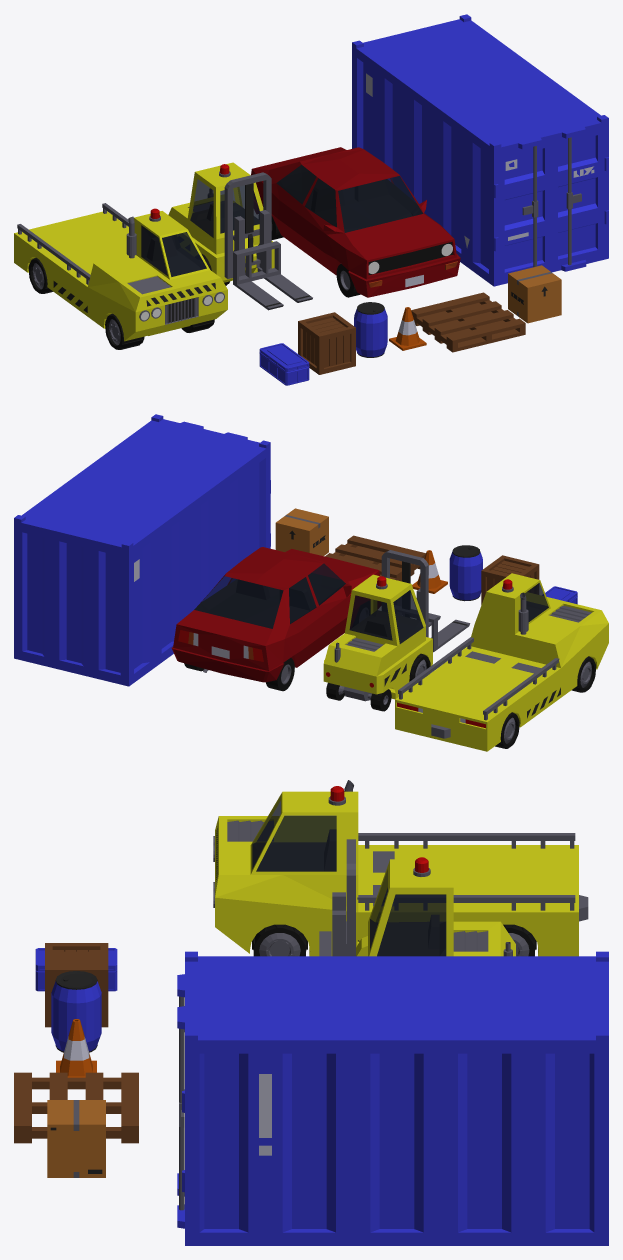
The model's file is uploads_files_3896325_Low+poly+vehicle+stuff.fbx.
3 renders of one model, top to bottom at view 1: azimuth 30°, elevation 25°; view 2: azimuth 150°, elevation 25°; view 3: azimuth 270°, elevation 25°, orthographic. The views are drawn at different scales.
Visible parts, largest first — view 1: Shipping_container, Truck, Car, Forklift, Pallet, Crate, Box, Barrel, Chest, Cone; view 2: Shipping_container, Truck, Car, Forklift, Box, Pallet, Barrel, Crate, Cone; view 3: Shipping_container, Truck, Forklift, Pallet, Box, Barrel, Crate, Cone, Chest.
Part boxes in pixels (<box>): Shipping_container: <box>352,14,608,286</box>; Truck: <box>14,203,227,349</box>; Car: <box>251,147,460,297</box>; Forklift: <box>168,162,312,310</box>; Pallet: <box>411,292,525,352</box>; Crate: <box>298,312,355,374</box>; Box: <box>508,265,561,323</box>; Barrel: <box>354,302,387,357</box>; Chest: <box>259,343,309,385</box>; Cone: <box>389,307,426,350</box>; Shipping_container: <box>14,414,270,686</box>; Truck: <box>395,573,608,751</box>; Car: <box>171,547,380,691</box>; Forklift: <box>323,550,470,711</box>; Box: <box>275,508,328,555</box>; Pallet: <box>325,535,425,581</box>; Barrel: <box>449,545,482,601</box>; Crate: <box>481,555,539,604</box>; Cone: <box>412,550,447,593</box>; Shipping_container: <box>177,951,608,1245</box>; Truck: <box>213,780,588,956</box>; Forklift: <box>319,839,515,956</box>; Pallet: <box>14,1072,138,1143</box>; Box: <box>47,1100,105,1177</box>; Barrel: <box>51,971,101,1052</box>; Crate: <box>45,943,108,1027</box>; Cone: <box>56,1019,96,1077</box>; Chest: <box>35,948,117,991</box>.
Size of the model in its own units: 1757 by 512 by 1306.
